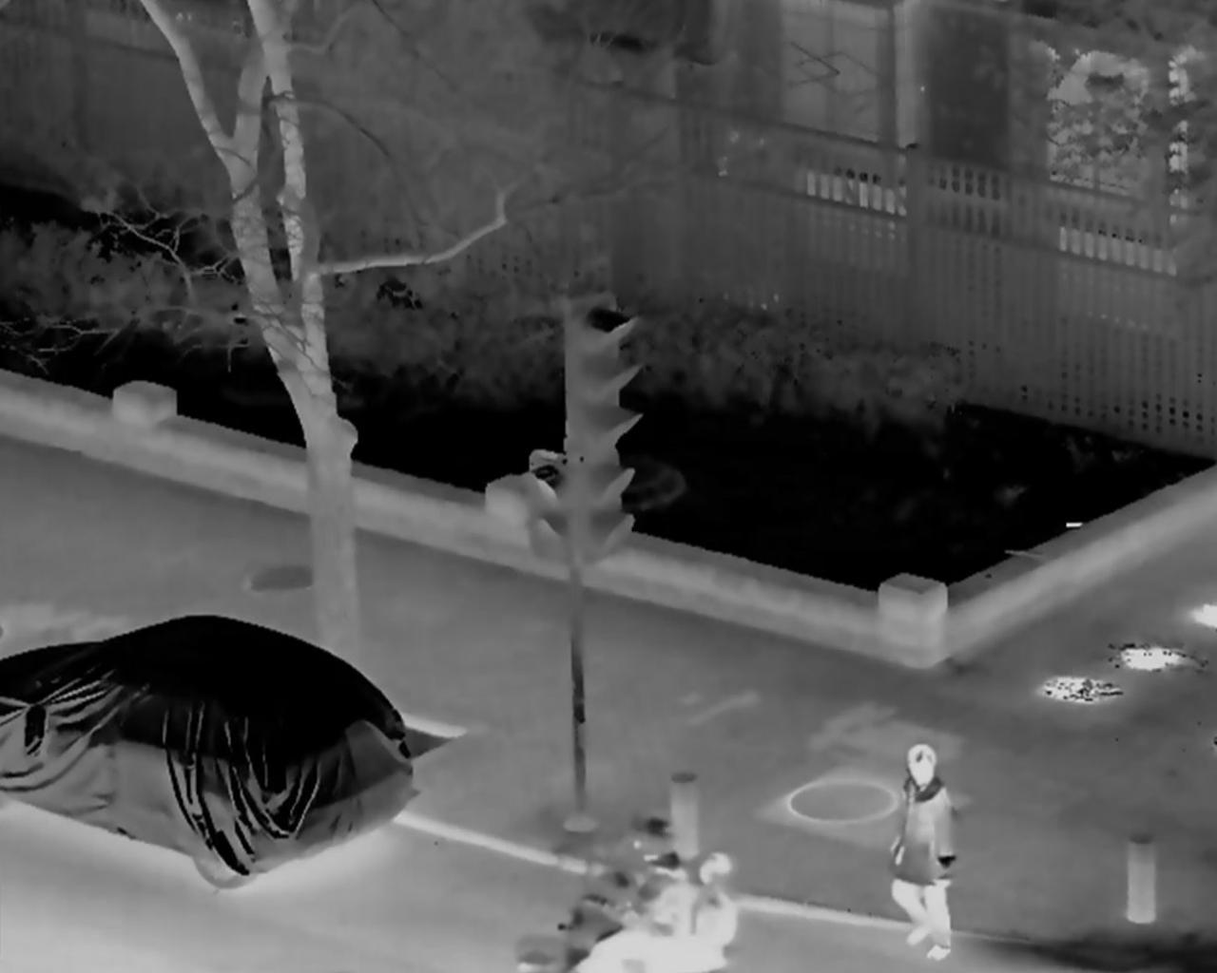person: (878, 741, 966, 963), (601, 811, 691, 973), (666, 849, 733, 973)
